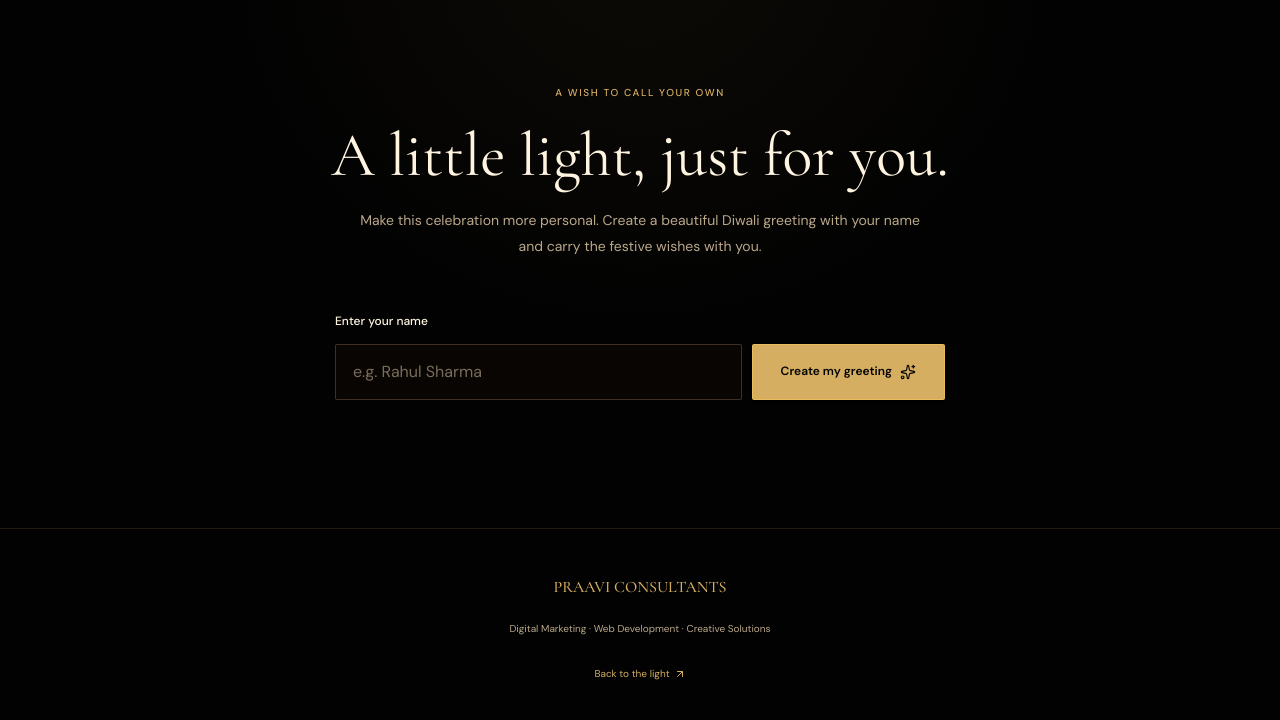
Test: standalone React greeting › renders the greeting and validates an empty name without a router or server
The width and height of the screenshot is (1280, 720).
(page scrolled)
Step 1. Click the button "Create my greeting" → (848, 372), box 752,344 -> 945,400
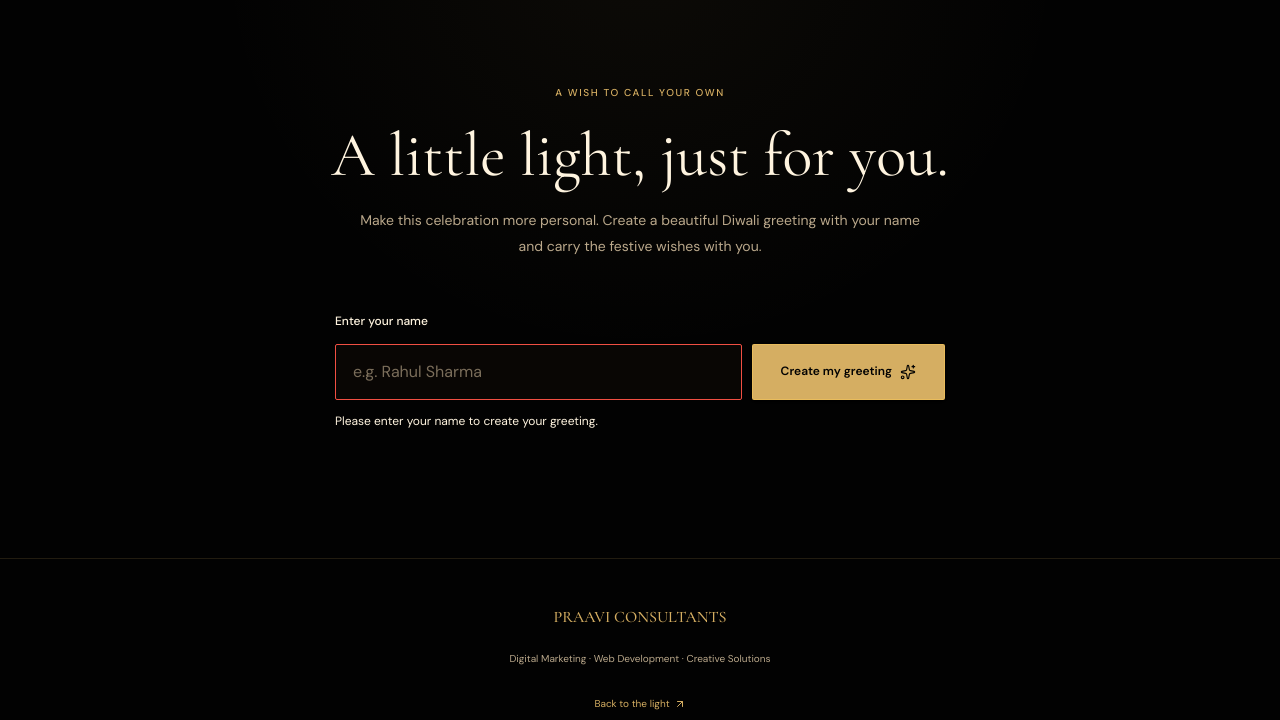
Check: the message shows "Please enter your name", box 335,413 -> 598,429
